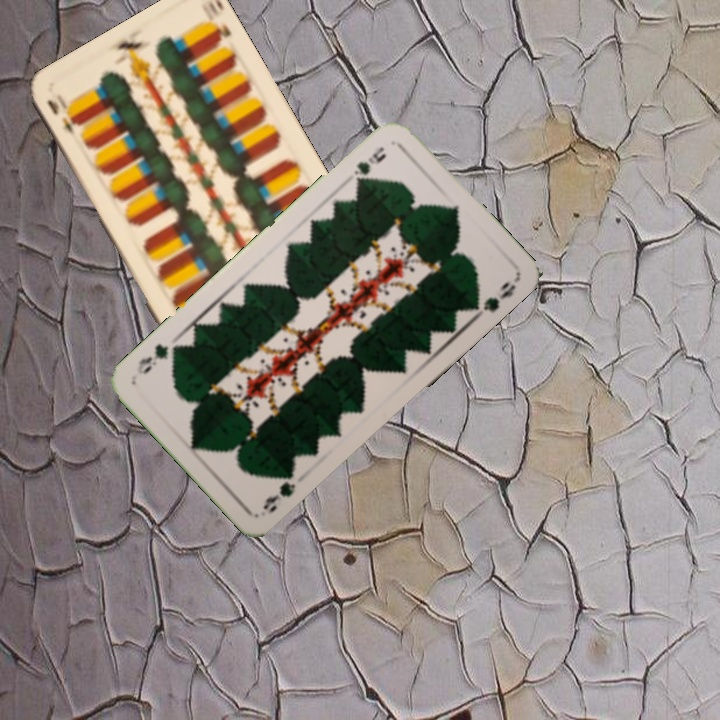E10: (42, 95, 78, 139)
G9: (259, 465, 299, 515), (349, 142, 389, 189)
